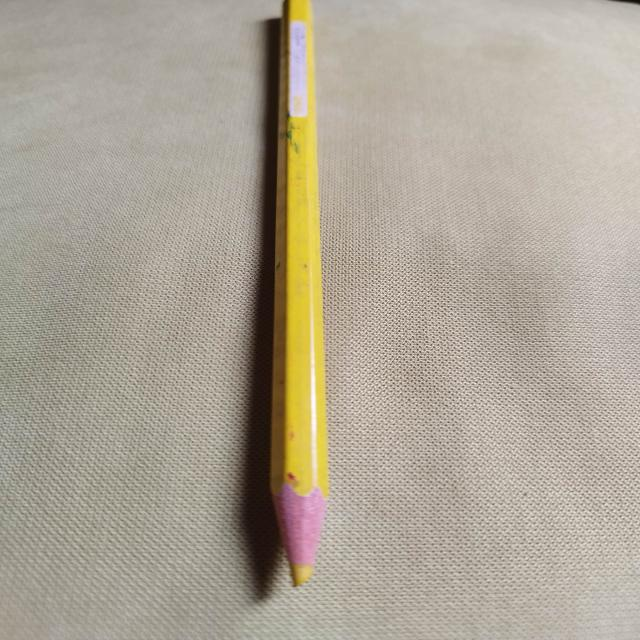pencil: (270, 0, 328, 587)
